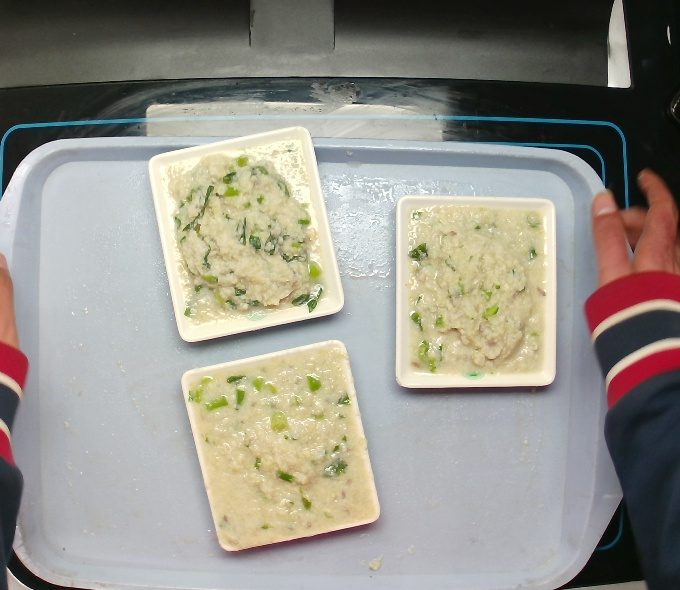wcq-QinCaiDouFuZha: (177, 346, 378, 549), (160, 141, 333, 327), (403, 189, 550, 393)
